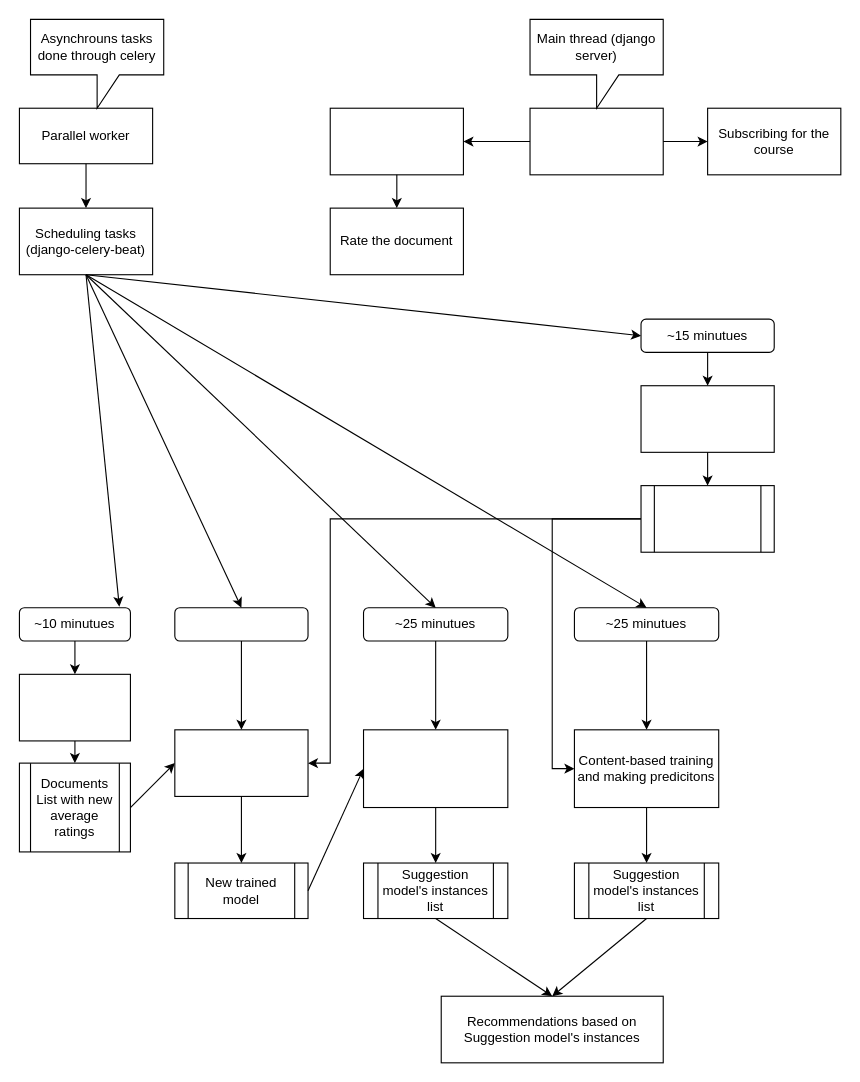
Some shapes in this 860 by 1082 pixel diagram are drawn without their labels. The shapes that lost their labels are listed below. From the top down, each one's centre as x and y in pixels, then its label:
(x=396, y=141): Rading website documents
(x=596, y=141): Registration and authentication
(x=707, y=418): Preparation of dataset
(x=707, y=518): New dataset (csv file) in Export model's instance
(x=241, y=624): ~20 minutues
(x=74, y=707): Creating averag ratings for each document
(x=241, y=762): Collaborative filtering based on ratings.
(x=435, y=768): Making predictions for each users and creation of new Suggestion models
